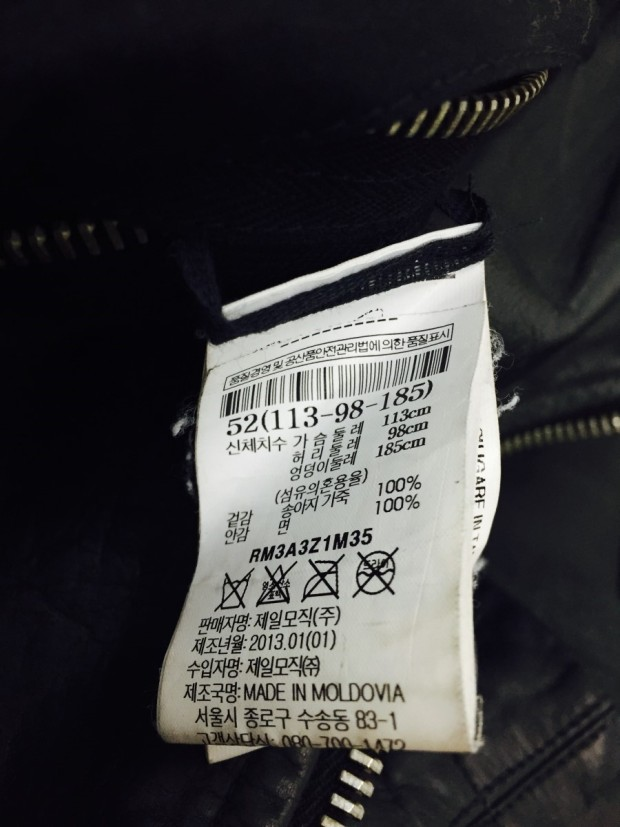KR_no_bleach: (256, 563, 293, 610)
KR_no_dry_clean: (353, 547, 399, 598)
KR_no_iron: (298, 556, 341, 600)
KR_no_wash: (216, 567, 252, 611)
